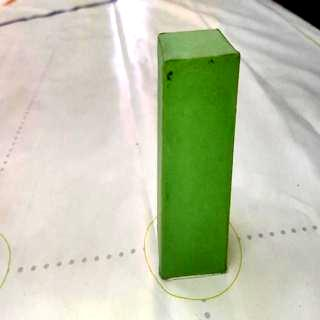greenbox: (156, 28, 242, 278)
